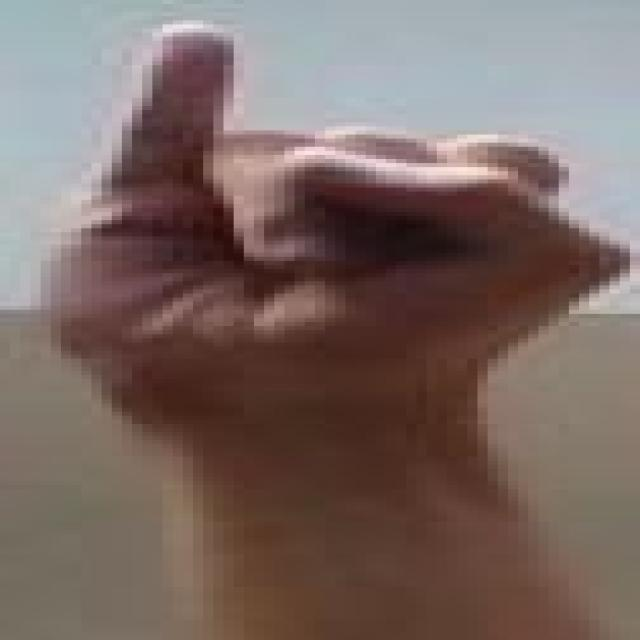I: (8, 1, 640, 406)
